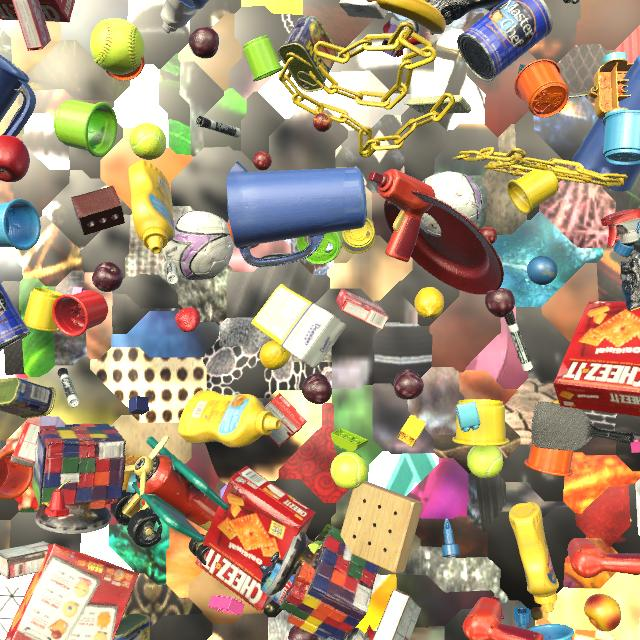ycb_002_master_chef_can: (457, 0, 553, 82), (0, 283, 31, 351)
ycb_003_cracker_box: (195, 466, 315, 612), (5, 544, 139, 640), (553, 301, 640, 417), (0, 0, 75, 22)
ycb_004_sugar_box: (251, 283, 346, 369), (339, 0, 388, 19)
ycb_006_mustard_bottle: (178, 390, 281, 448), (509, 502, 559, 612), (128, 160, 175, 254)
ycb_008_pudding_box: (373, 589, 421, 640), (0, 541, 49, 579)
ycb_009_gelatin_box: (265, 393, 307, 447), (336, 289, 389, 330), (12, 0, 51, 51), (10, 422, 40, 468)
ycb_010_potted_meat_can: (278, 16, 338, 92), (0, 377, 56, 419), (114, 613, 150, 640)
ycb_011_banana: (367, 0, 446, 35)
ycb_012_strawberry: (175, 307, 200, 332), (140, 498, 146, 509)
ycb_013_apple: (0, 135, 30, 182)
ycb_014_lemon: (414, 287, 444, 319), (260, 340, 290, 370)
ycb_015_peach: (584, 594, 621, 632)
ycb_017_orange: (227, 220, 259, 249)
ycb_018_plum: (301, 373, 332, 404), (189, 27, 219, 59), (92, 262, 123, 292), (394, 369, 424, 400), (485, 288, 515, 317), (288, 625, 318, 640)
